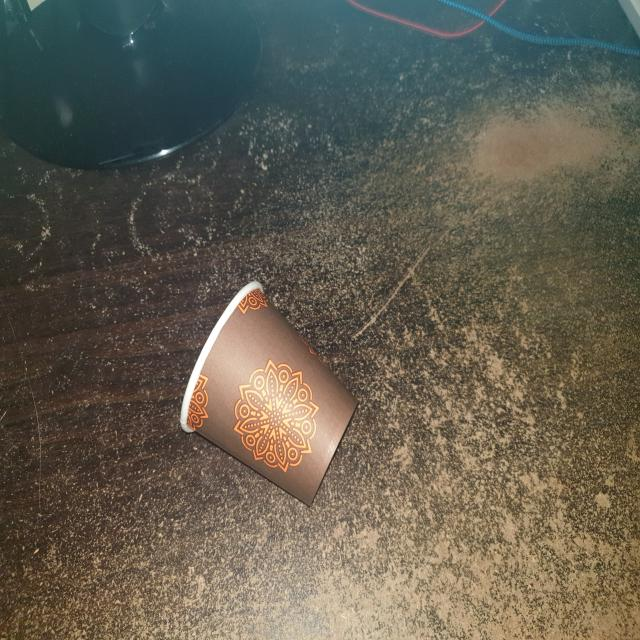cup: (176, 278, 363, 512)
